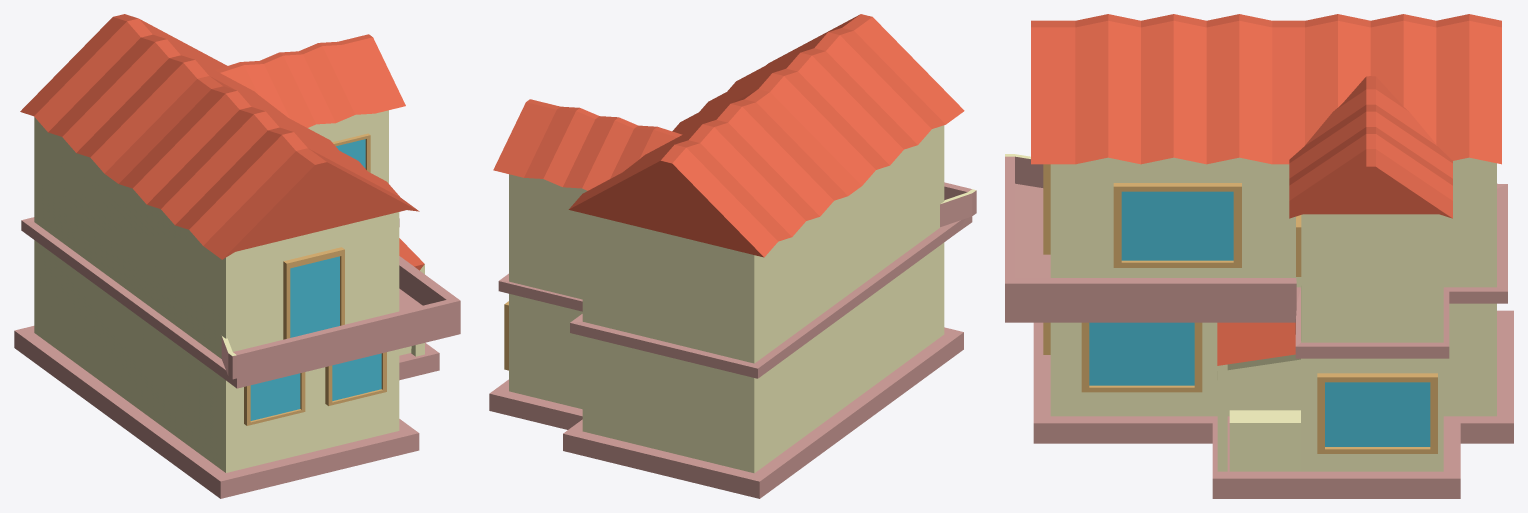
File: pousada.fbx
3 views of the same model, side by side, from view 1: azimuth 30°, elevation 25°; view 2: azimuth 150°, elevation 25°; view 3: azimuth 270°, elevation 25° (orthographic). The views are drawn at different scales.
Parts seen in each view (by area): view 1: pusada; view 2: pusada; view 3: pusada.
Boxes of the visible parts, x1,y1,x2,y2 form: pusada: (14, 14, 460, 498); pusada: (489, 14, 976, 498); pusada: (1005, 14, 1513, 498).
Size of the model in its own units: 133 by 136 by 170.
